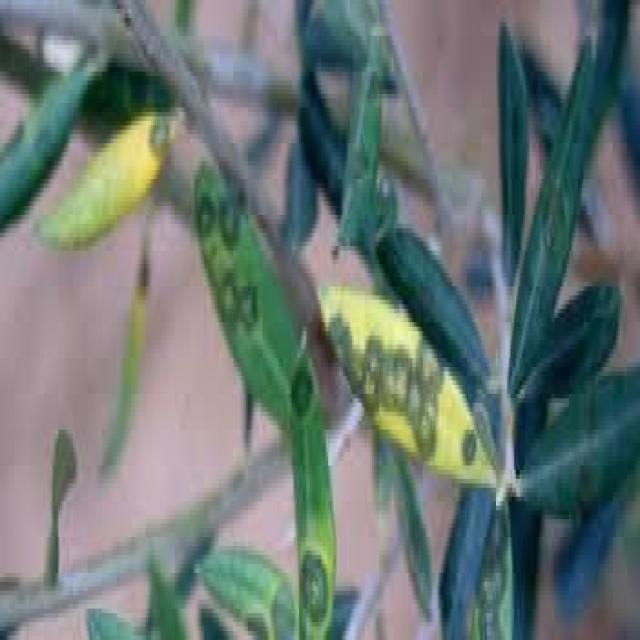Peacock Eye: (321, 286, 498, 483), (195, 161, 297, 425), (36, 116, 173, 246), (292, 340, 335, 636), (195, 546, 295, 636), (472, 501, 511, 636)
